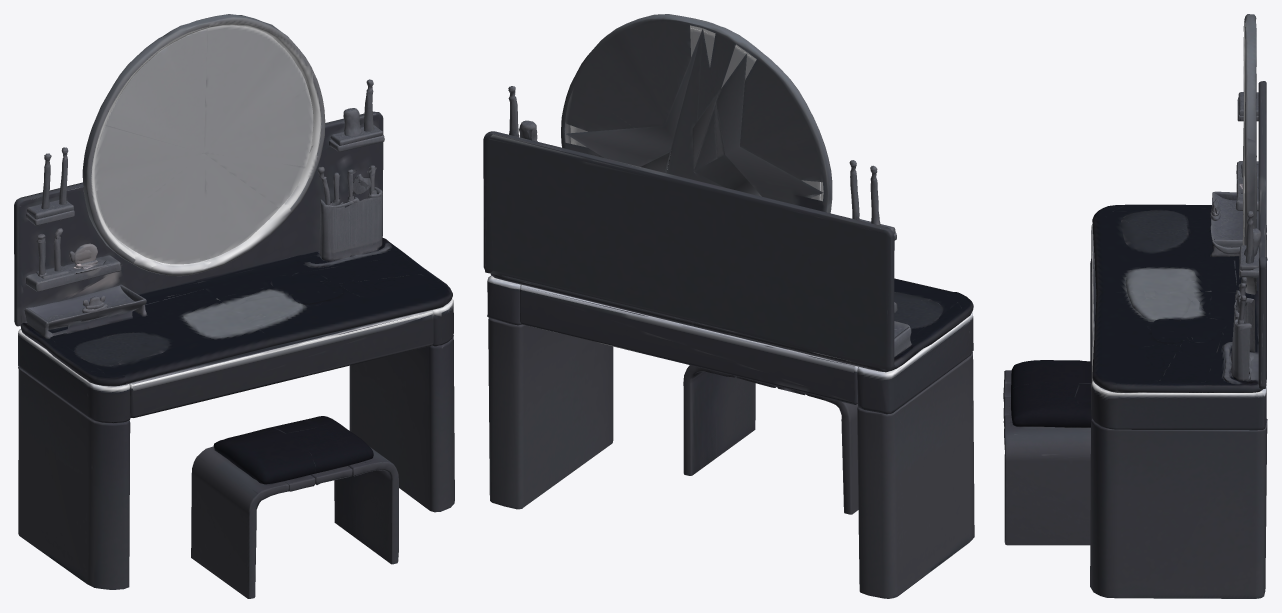
The model's file is zrcadlo.glb.
The picture shows the model from 3 angles, left to right: view 1: azimuth 30°, elevation 25°; view 2: azimuth 150°, elevation 25°; view 3: azimuth 270°, elevation 25°; orthographic projection. The views are drawn at different scales.
Size of the model in its own units: 0.8171 by 1 by 0.4991.
Materials: 1 (1 with a texture image).
